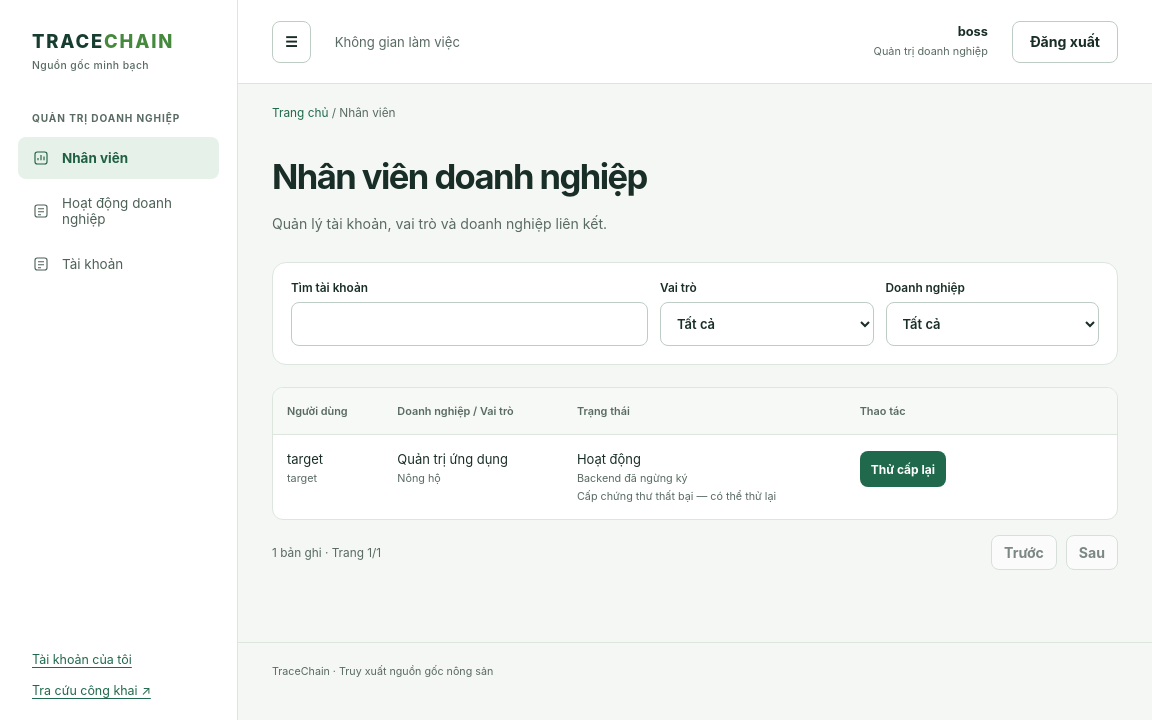
Test case: retries a failed staff identity using the actual request state even after signing was disabled
This screenshot has width=1152, height=720.
Click the button "Thử cấp lại" at (903,469), box [860,451,946,487]
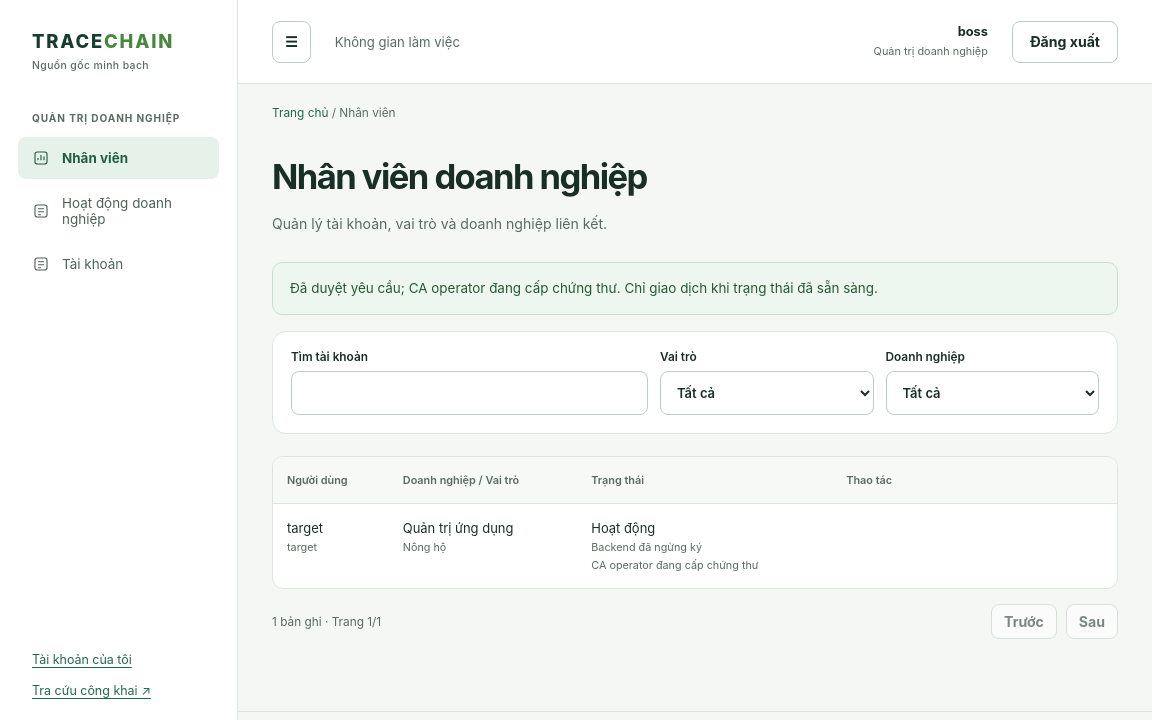
Expected: the text "CA operator đang cấp chứng thư" is shown, [591,559,759,572]
Expected: the button "Thử cấp lại" is gone
